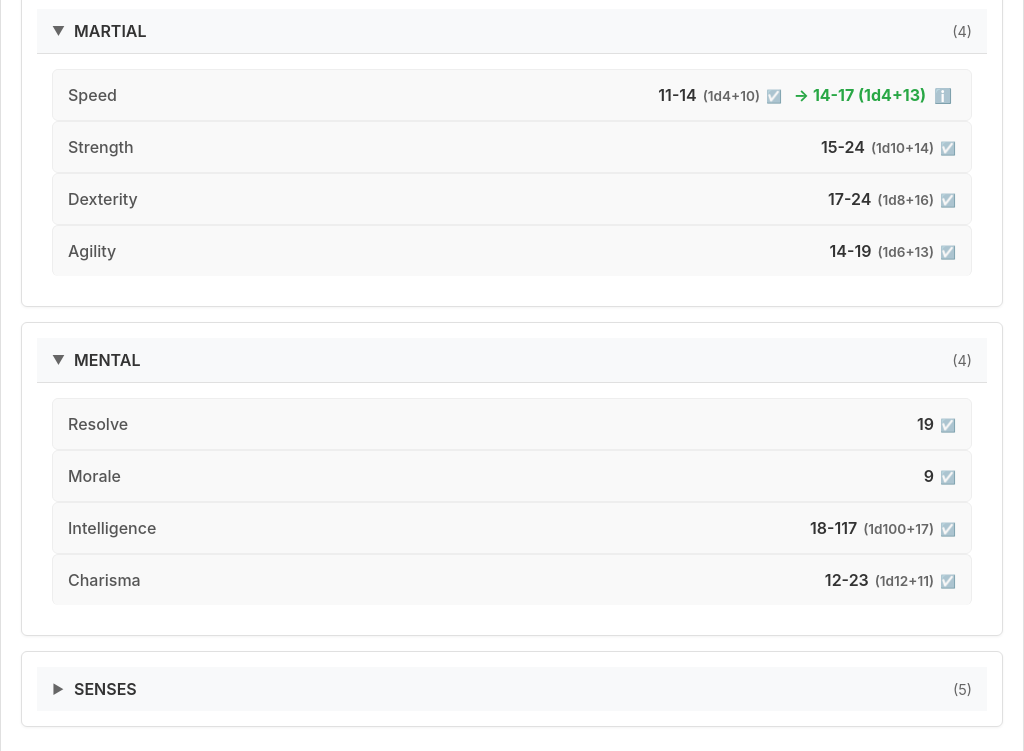
Test case: CharacterAttributesBackend › Equipment/Ready Toggle › should display ready grouped values when toggle is on
This screenshot has width=1024, height=751.
(page scrolled)
Step 1. Click the text "SENSES" → (105, 689), box [74,679,137,699]
(page scrolled)
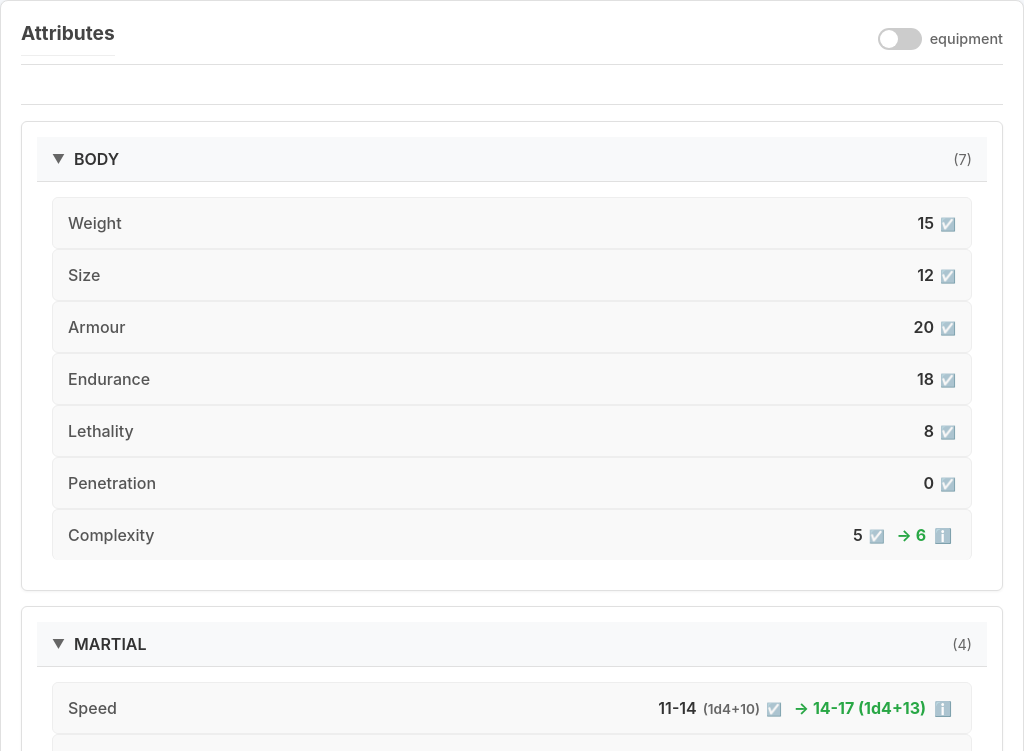
Step 2. Click the checkbox → (940, 38), box [878,28,1003,50]
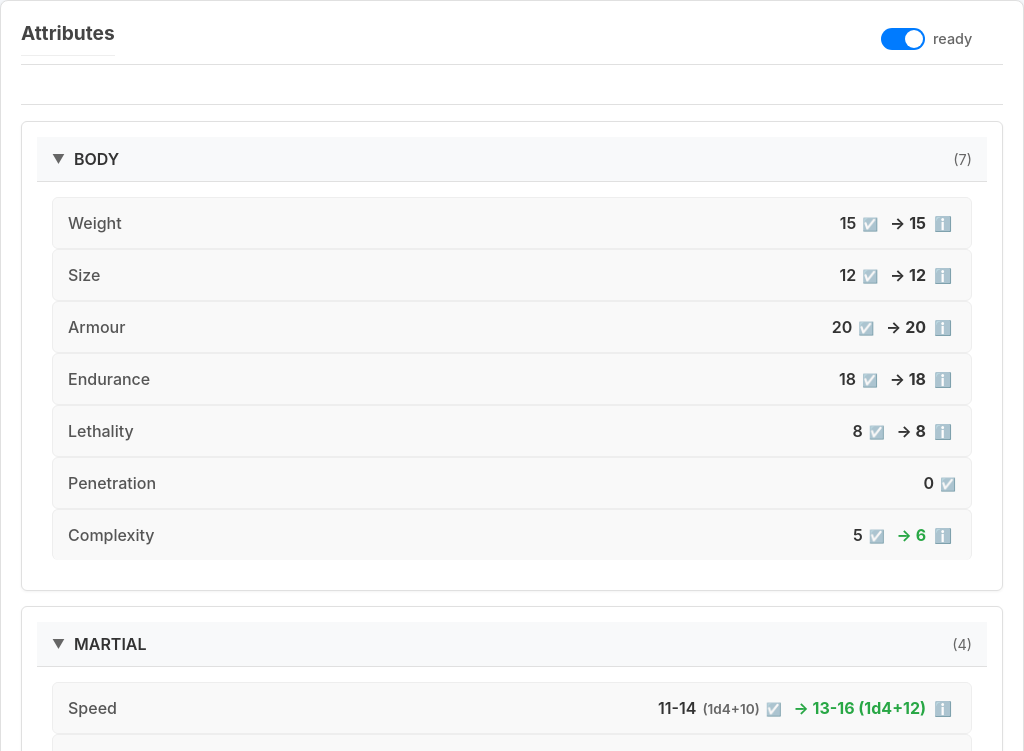
Expected: the text "ready" is shown, [933,30,972,47]
Expected: the text "→ 12" is shown, [886,265,956,285]
